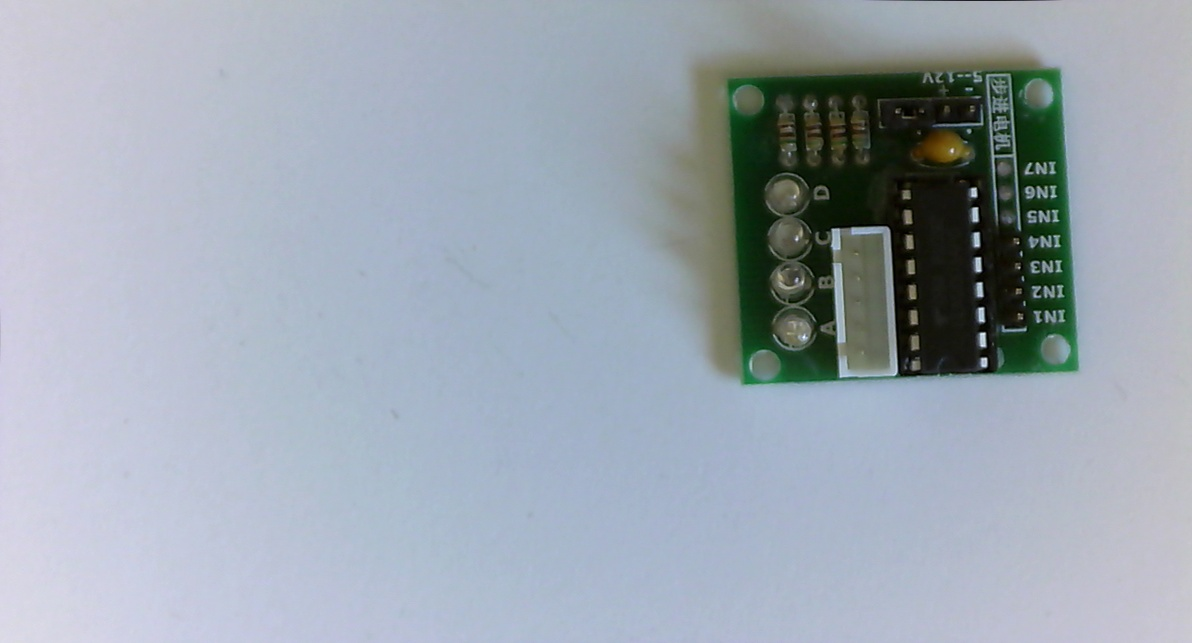IC: (891, 181, 1000, 383)
LED: (761, 299, 824, 350), (763, 215, 818, 256), (763, 256, 813, 300), (764, 177, 815, 215)
capacitor: (910, 127, 974, 169)
connector: (832, 225, 896, 376), (996, 229, 1034, 335), (882, 95, 990, 125)
resistor: (800, 93, 830, 168), (771, 94, 801, 168), (848, 93, 875, 165), (828, 92, 850, 169)
